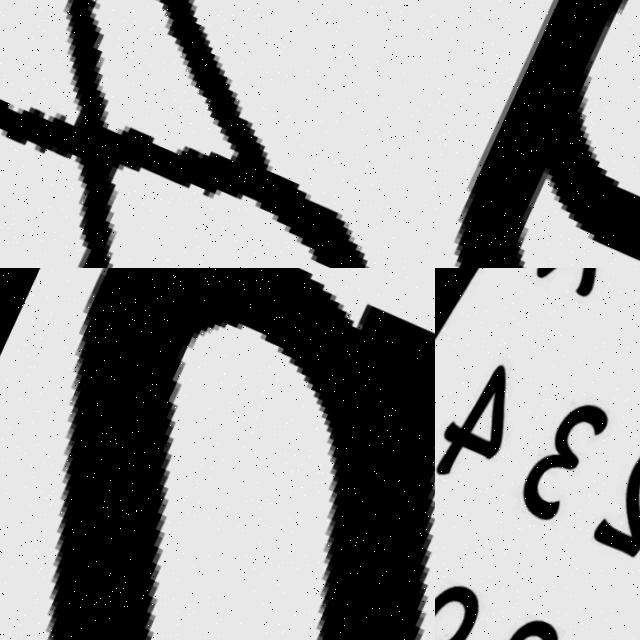2: (574, 395, 640, 577)
3: (498, 370, 630, 535)
4: (435, 332, 556, 500)
8: (455, 585, 590, 640)
9: (435, 549, 509, 640)
G: (435, 0, 640, 268)
N: (0, 268, 435, 640)
